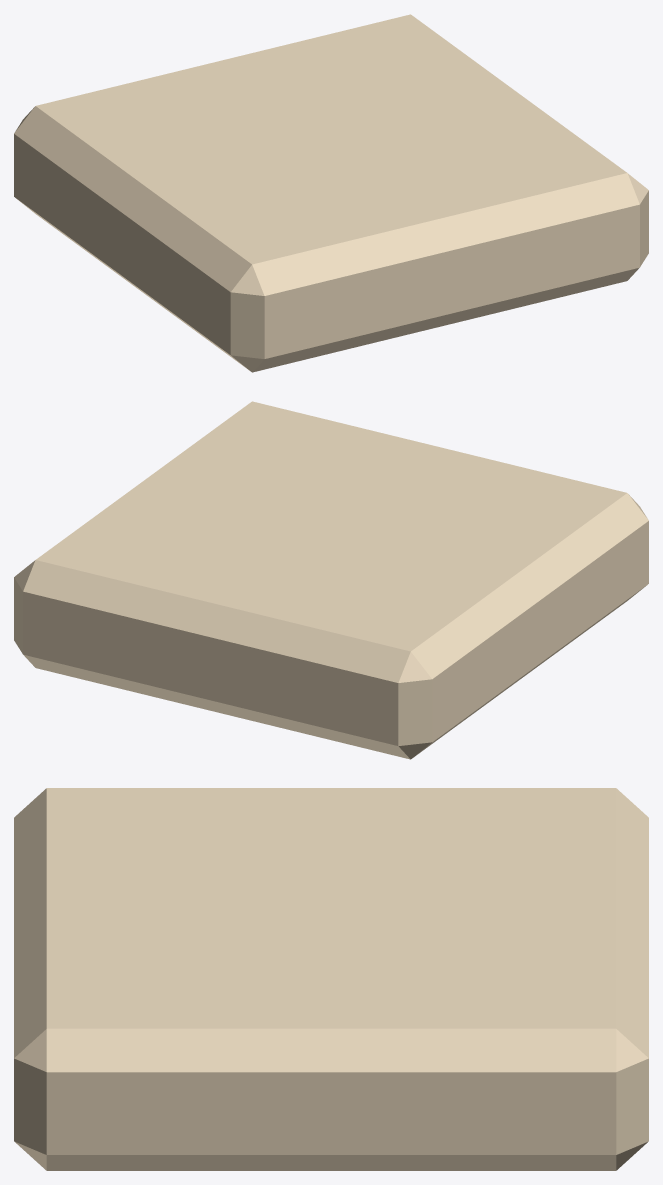
Rendered from mod_floor_tile_stone.glb.
The picture shows the model from 3 angles, top to bottom: view 1: azimuth 30°, elevation 25°; view 2: azimuth 150°, elevation 25°; view 3: azimuth 270°, elevation 25°; orthographic projection. The views are drawn at different scales.
Visible parts, largest first — view 1: mod_floor_tile_stone; view 2: mod_floor_tile_stone; view 3: mod_floor_tile_stone.
Part boxes in pixels (box(x1,y1,x2,y2)): mod_floor_tile_stone: box(14, 14, 648, 372); mod_floor_tile_stone: box(14, 401, 648, 759); mod_floor_tile_stone: box(14, 788, 648, 1170).
Size of the model in its own units: 0.486 by 0.12 by 0.486.
